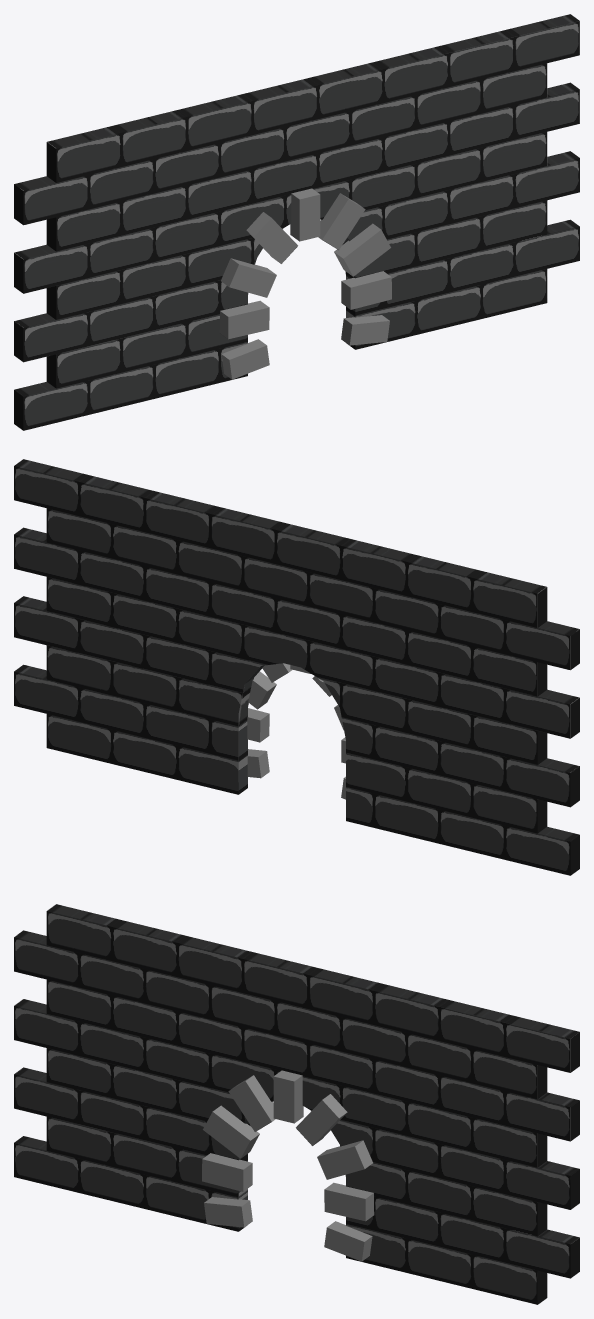
The model's file is Door.fbx.
3 renders of one model, top to bottom at view 1: azimuth 30°, elevation 25°; view 2: azimuth 150°, elevation 25°; view 3: azimuth 330°, elevation 25°, orthographic.
Parts seen in each view (by area): view 1: Cube.002; view 2: Cube.002; view 3: Cube.002.
Part boxes in pixels (bbox=[...]): Cube.002: bbox=[14, 14, 579, 430]; Cube.002: bbox=[14, 459, 579, 875]; Cube.002: bbox=[14, 904, 579, 1304].
Size of the model in its own units: 3400 by 1600 by 190.
